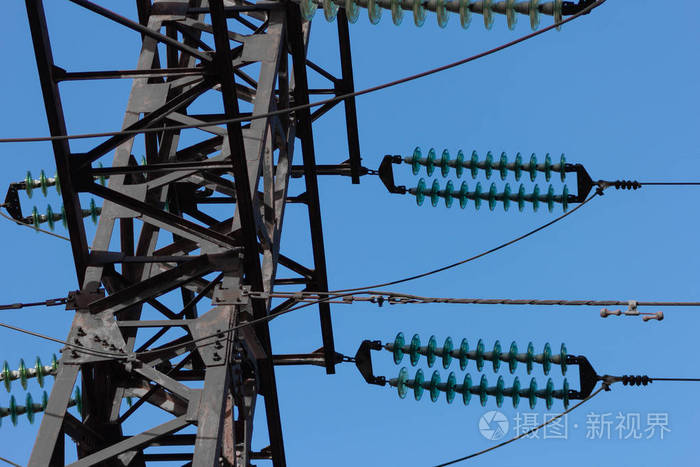insulator: (393, 366, 572, 418), (303, 1, 566, 32), (388, 335, 570, 375), (411, 146, 568, 183), (413, 178, 572, 214), (27, 199, 102, 236), (1, 350, 61, 390), (3, 386, 57, 427), (21, 172, 61, 200)
